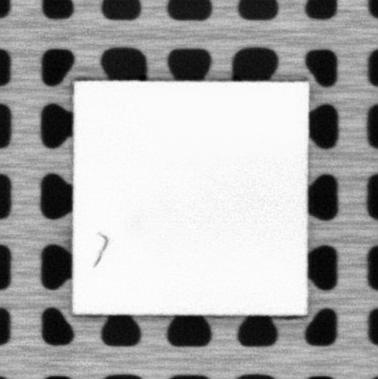DIE_INK: (92, 230, 109, 267)
